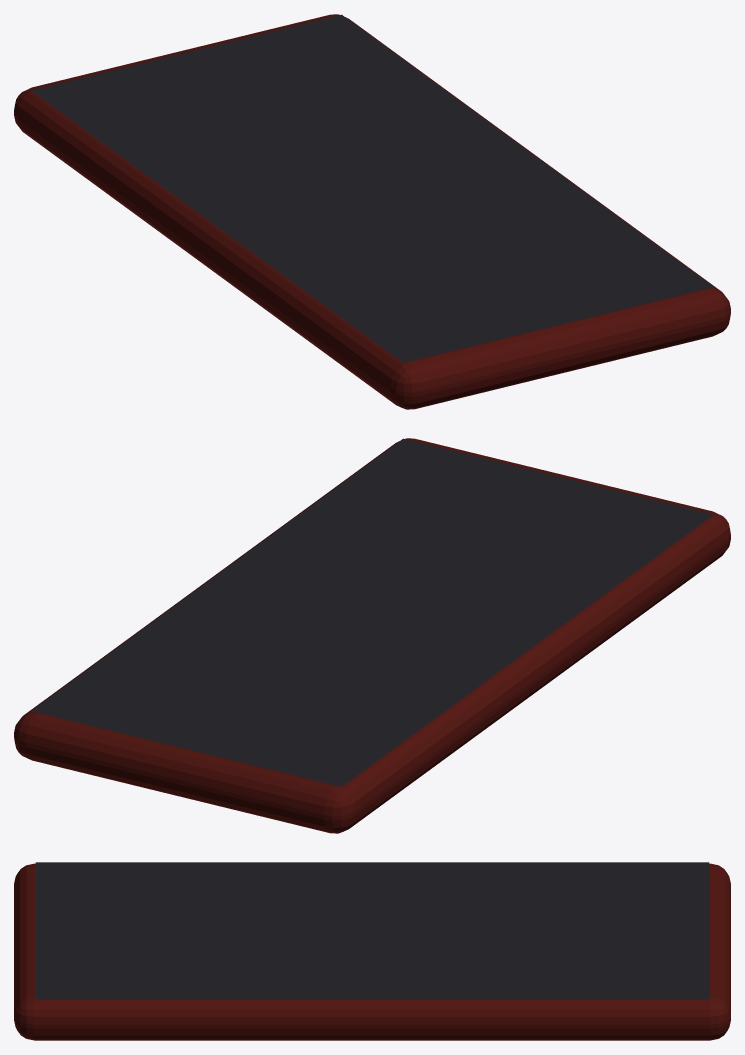
The model's file is Phone_340.glb.
3 renders of one model, top to bottom at view 1: azimuth 30°, elevation 25°; view 2: azimuth 150°, elevation 25°; view 3: azimuth 270°, elevation 25°, orthographic. The views are drawn at different scales.
Parts seen in each view (by area): view 1: Phone_Screen, Phone_Body; view 2: Phone_Screen, Phone_Body; view 3: Phone_Screen, Phone_Body.
Boxes of the visible parts, x1,y1,x2,y2 form: Phone_Screen: (31,14,713,362); Phone_Body: (14,14,730,409); Phone_Screen: (31,438,713,786); Phone_Body: (14,438,730,833); Phone_Screen: (35,862,709,999); Phone_Body: (14,863,730,1040).
Bounding box in the file's own units: 0.0763 × 0.0099 × 0.1549.
